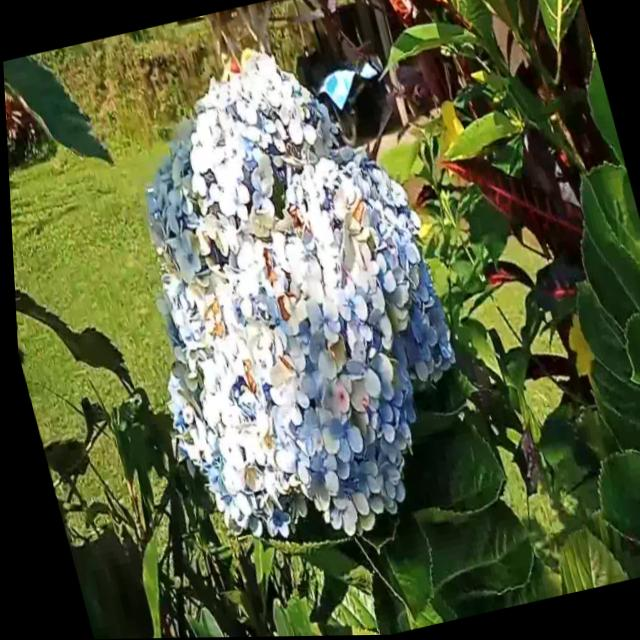Flower: (77, 20, 490, 561)
